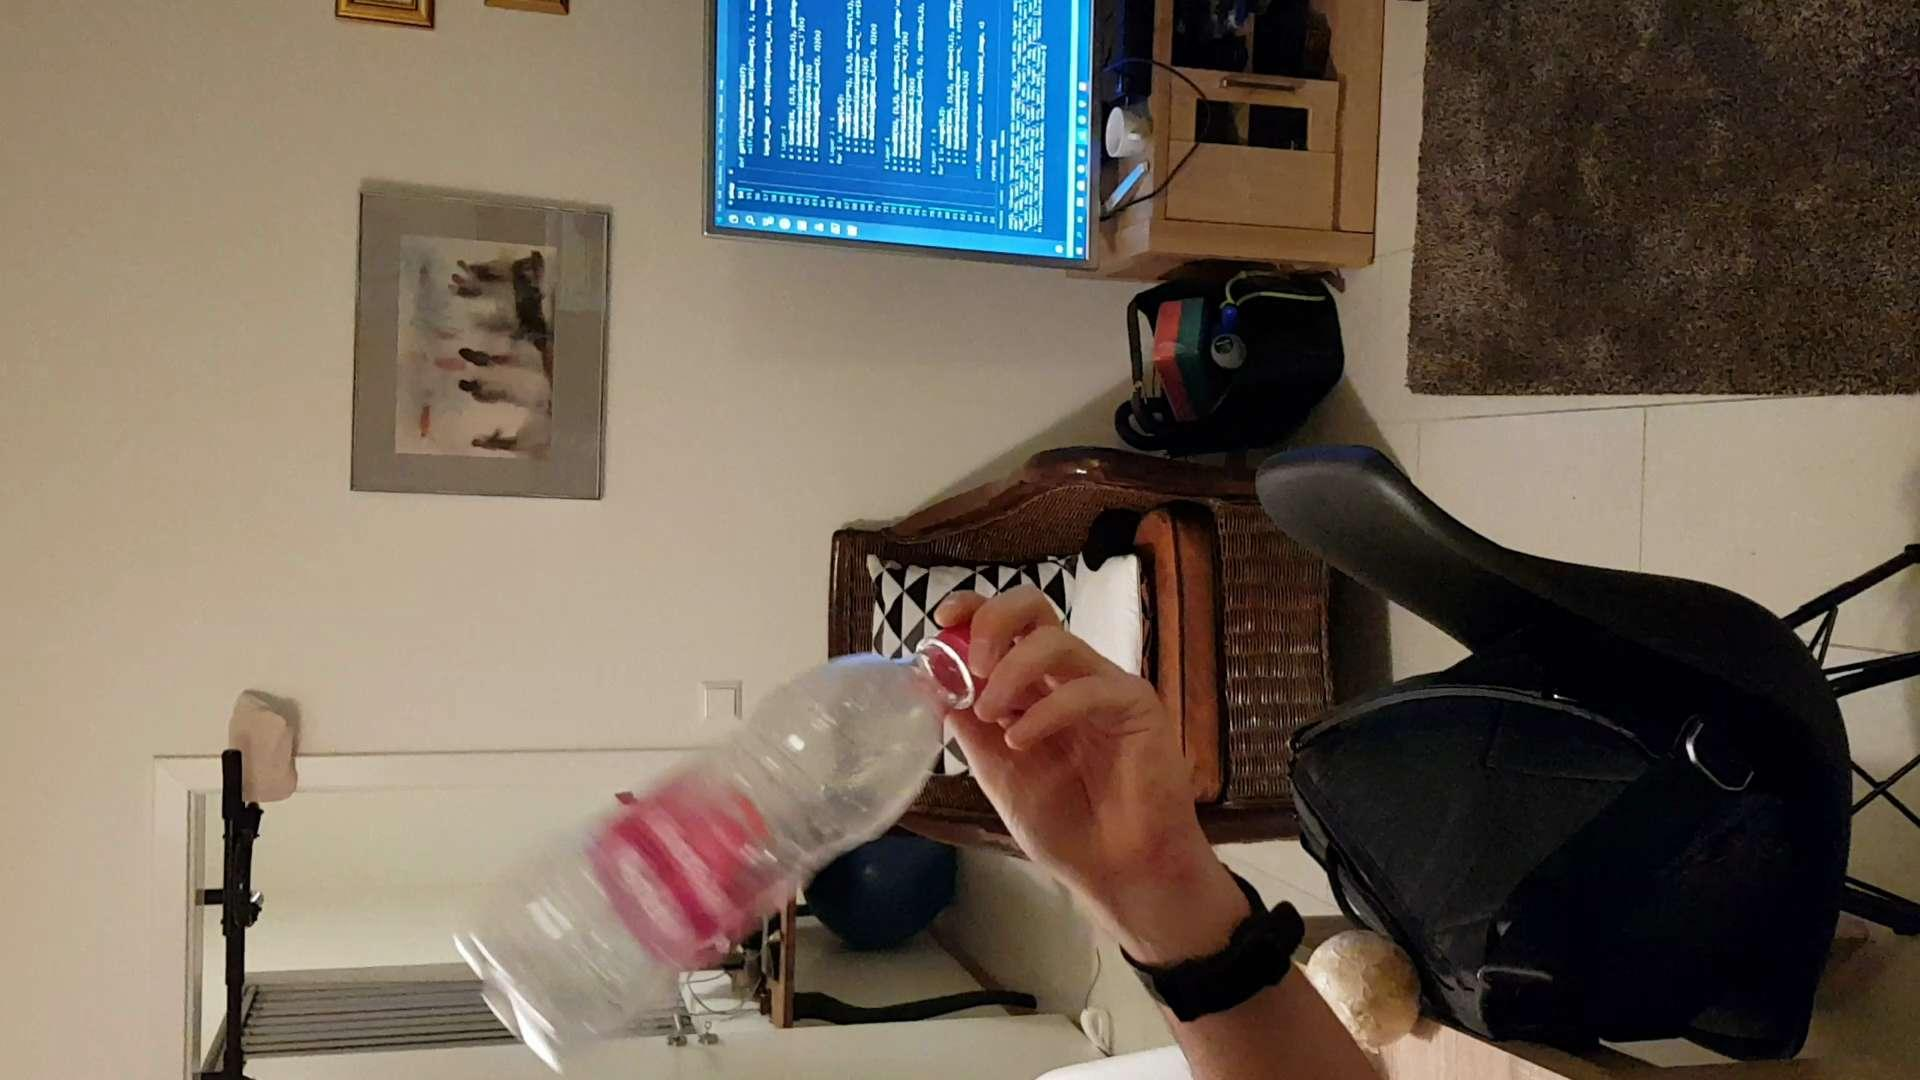Bottle: (452, 625, 975, 1080)
